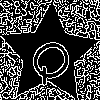Q: (24, 29, 84, 89)
